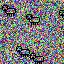sheep: (16, 45, 30, 57), (30, 53, 45, 64), (2, 5, 16, 16), (26, 14, 40, 25)
